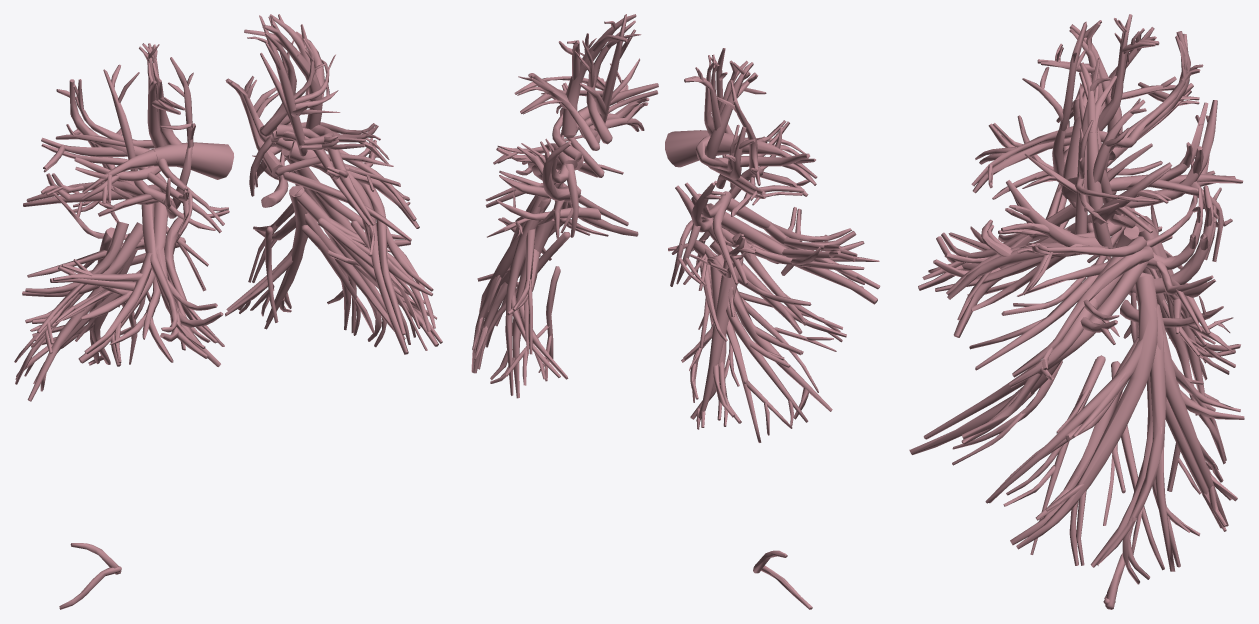
The model's file is lung.glb.
3 views of the same model, side by side, from view 1: azimuth 30°, elevation 25°; view 2: azimuth 150°, elevation 25°; view 3: azimuth 270°, elevation 25° (orthographic). The views are drawn at different scales.
Visible parts, largest first — view 1: Lungs; view 2: Lungs; view 3: Lungs.
Boxes of the visible parts, box(x1,y1,x2,y2) form: Lungs: box(14, 14, 442, 609); Lungs: box(471, 14, 880, 609); Lungs: box(909, 14, 1244, 609).
Bounding box in the file's own units: 0.2418 × 0.3411 × 0.1575.
